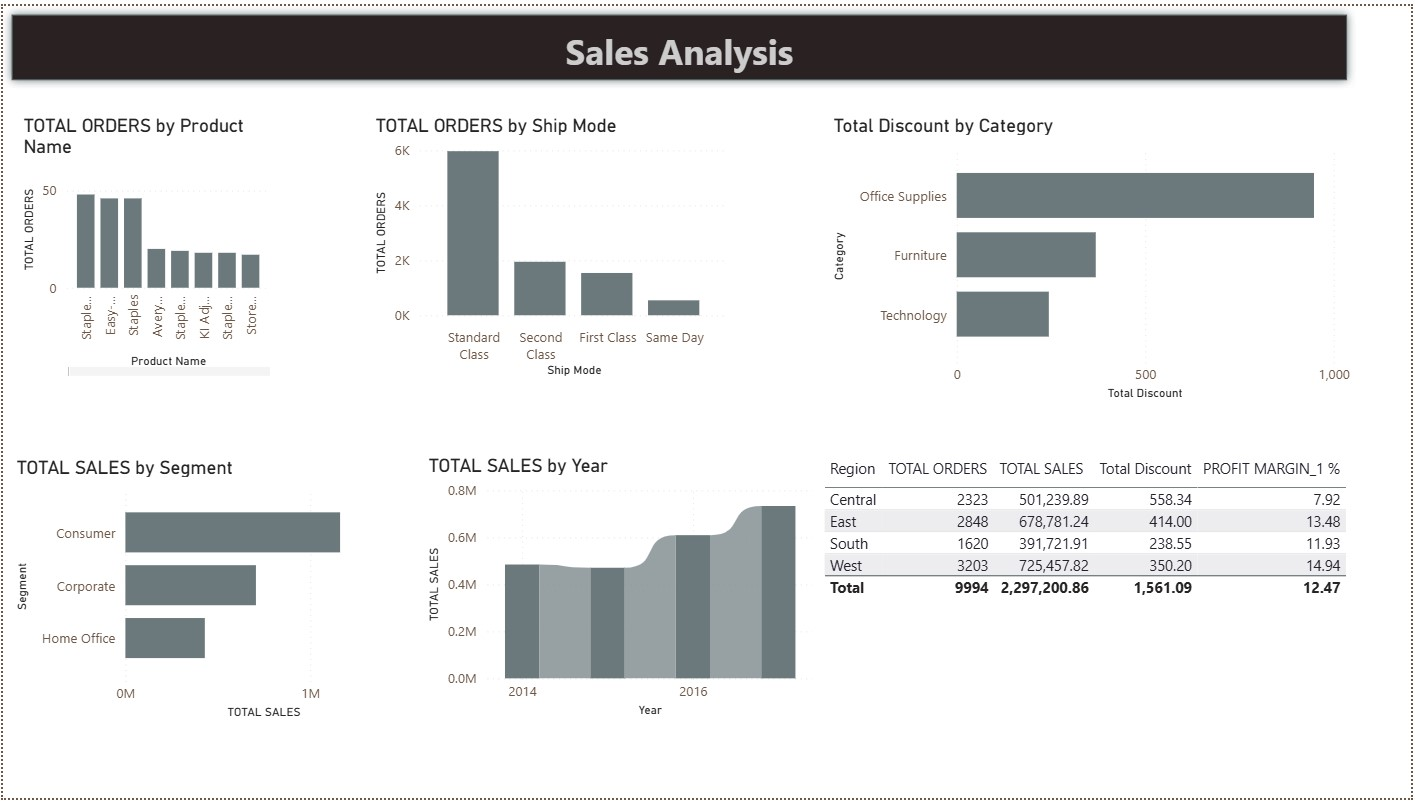

Layout of this report page (visuals, bound fields, positions):
{"tool":"powerbi","page":{"name":"Sales Analysis","canvas":[1280,720],"ordinal":2},"visuals":[{"type":"columnChart","fields":{"Category":["Sample - Superstore.Product Name"],"Y":["DATE TABLE.TOTAL ORDERS"]},"box":[13.3,98.4,234.1,243],"z":0},{"type":"clusteredColumnChart","fields":{"Category":["Sample - Superstore.Ship Mode"],"Y":["DATE TABLE.TOTAL ORDERS"]},"box":[333.4,98.4,330.7,243],"z":1000},{"type":"clusteredBarChart","fields":{"Category":["Sample - Superstore.Category"],"Y":["DATE TABLE.Total Discount"]},"box":[750.1,98.4,479.7,264.2],"z":2000},{"type":"barChart","fields":{"Category":["Sample - Superstore.Segment"],"Y":["DATE TABLE.TOTAL SALES"]},"box":[7.1,408.8,375.1,243],"z":3000},{"type":"ribbonChart","fields":{"Category":["DATE TABLE.Order Date.Variation.Date Hierarchy.Year"],"Y":["DATE TABLE.TOTAL SALES"]},"box":[382.2,407,359.1,243],"z":4000},{"type":"tableEx","fields":{"Values":["Sample - Superstore.Region","DATE TABLE.TOTAL ORDERS","DATE TABLE.TOTAL SALES","DATE TABLE.Total Discount","DATE TABLE.PROFIT MARGIN_1 %"]},"box":[741.3,405.2,488.6,243],"z":5000},{"type":"shape","box":[0,0,1229.9,75.4],"z":6000},{"type":"textbox","box":[0,13.3,1229.9,62.1],"z":7000}]}

Visuals, with their boxes in screenshot pixels (x1, y1, x2, y2), scaled from the page's 1280x720 canvas onto the 1415x804 screenshot:
columnChart - Sample - Superstore.Product Name x DATE TABLE.TOTAL ORDERS: {"left": 15, "top": 110, "right": 273, "bottom": 381}
clusteredColumnChart - Sample - Superstore.Ship Mode x DATE TABLE.TOTAL ORDERS: {"left": 369, "top": 110, "right": 734, "bottom": 381}
clusteredBarChart - Sample - Superstore.Category x DATE TABLE.Total Discount: {"left": 829, "top": 110, "right": 1360, "bottom": 405}
barChart - Sample - Superstore.Segment x DATE TABLE.TOTAL SALES: {"left": 8, "top": 456, "right": 423, "bottom": 728}
ribbonChart - DATE TABLE.Order Date.Variation.Date Hierarchy.Year x DATE TABLE.TOTAL SALES: {"left": 423, "top": 454, "right": 819, "bottom": 726}
tableEx - Sample - Superstore.Region x DATE TABLE.TOTAL ORDERS: {"left": 819, "top": 452, "right": 1360, "bottom": 724}
shape: {"left": 0, "top": 0, "right": 1360, "bottom": 84}
textbox: {"left": 0, "top": 15, "right": 1360, "bottom": 84}
